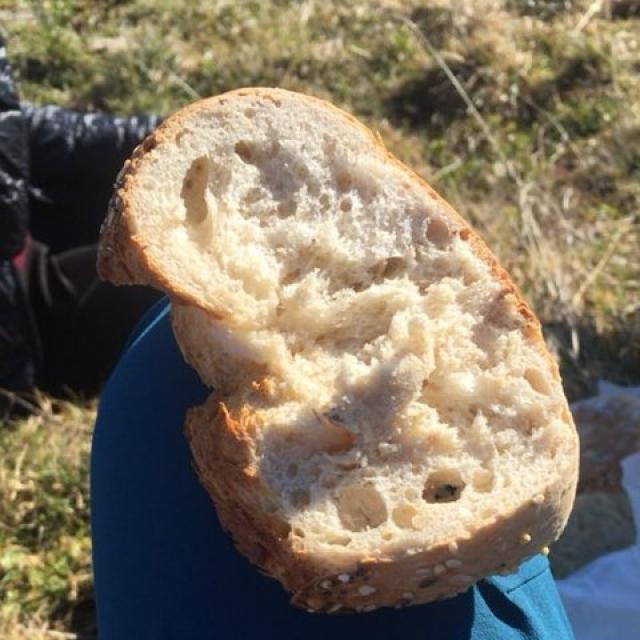bread: (109, 94, 570, 603)
